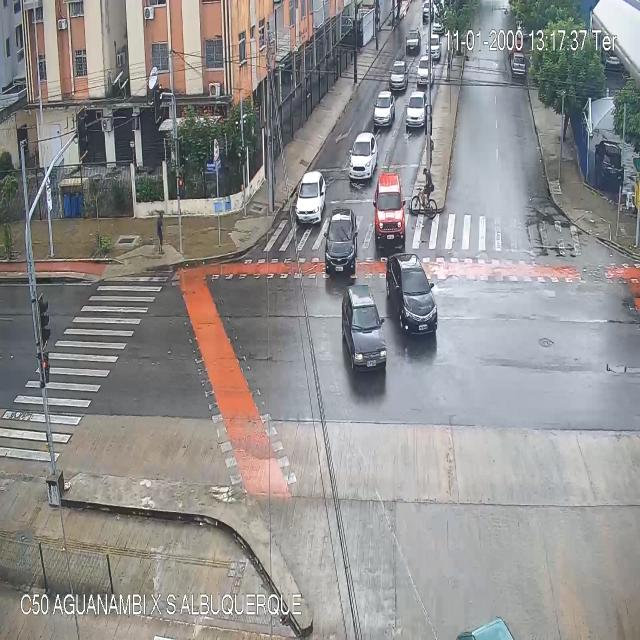Car: (389, 253, 438, 337), (343, 286, 386, 371), (375, 169, 404, 246), (325, 210, 358, 274), (295, 171, 326, 225), (348, 134, 377, 182), (375, 89, 396, 127), (388, 62, 407, 96), (408, 94, 425, 130), (425, 34, 442, 63), (416, 58, 431, 89), (404, 31, 421, 53), (512, 54, 525, 74), (422, 2, 433, 22)
